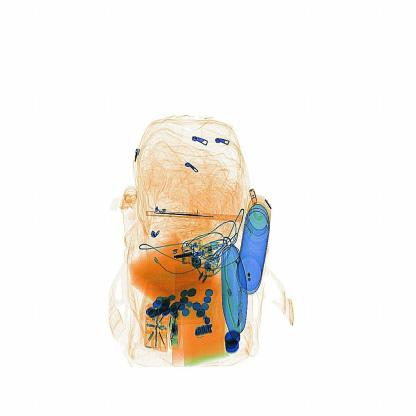wrench: (142, 198, 256, 232)
